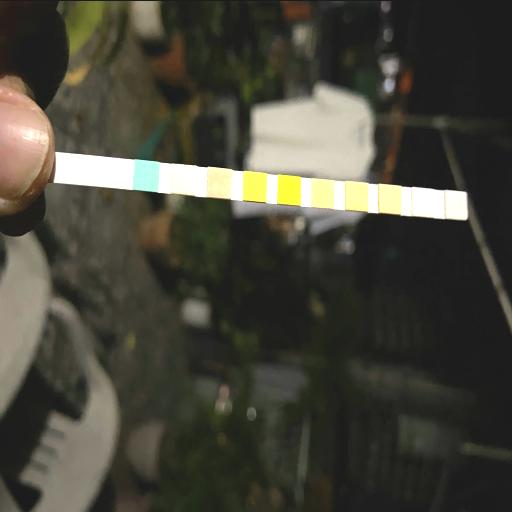Bilirubin: (172, 166, 194, 192)
Blood: (278, 176, 300, 202)
Glucose: (136, 162, 158, 190)
Ketone: (208, 168, 230, 196)
Leukocytes: (446, 191, 466, 218)
Nitrite: (414, 188, 432, 214)
Protein: (347, 184, 367, 208)
SpGravity: (244, 172, 266, 200)
Urobilinogen: (380, 186, 400, 210)
pH: (314, 181, 334, 205)
strip: (58, 151, 468, 219)
